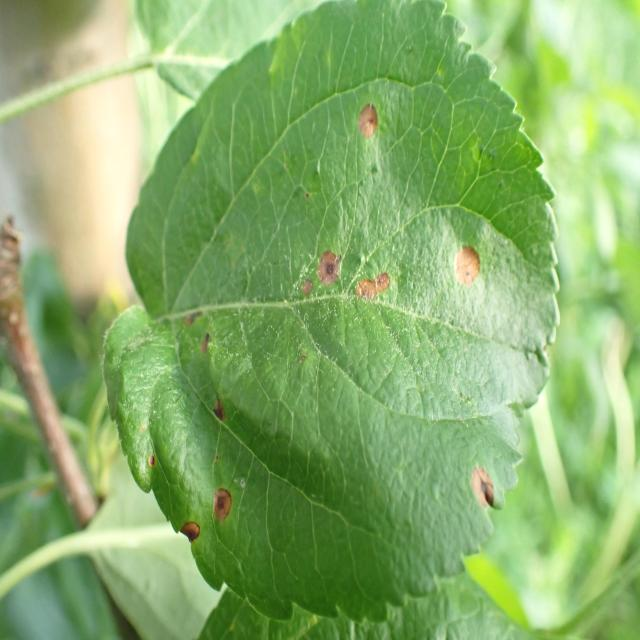Black Rot: (430, 236, 494, 295), (178, 292, 220, 363), (345, 266, 400, 320), (202, 470, 242, 544), (462, 461, 508, 520), (312, 229, 345, 298), (124, 441, 171, 487), (352, 96, 388, 155), (203, 384, 235, 433), (172, 510, 206, 550), (294, 266, 318, 313)
